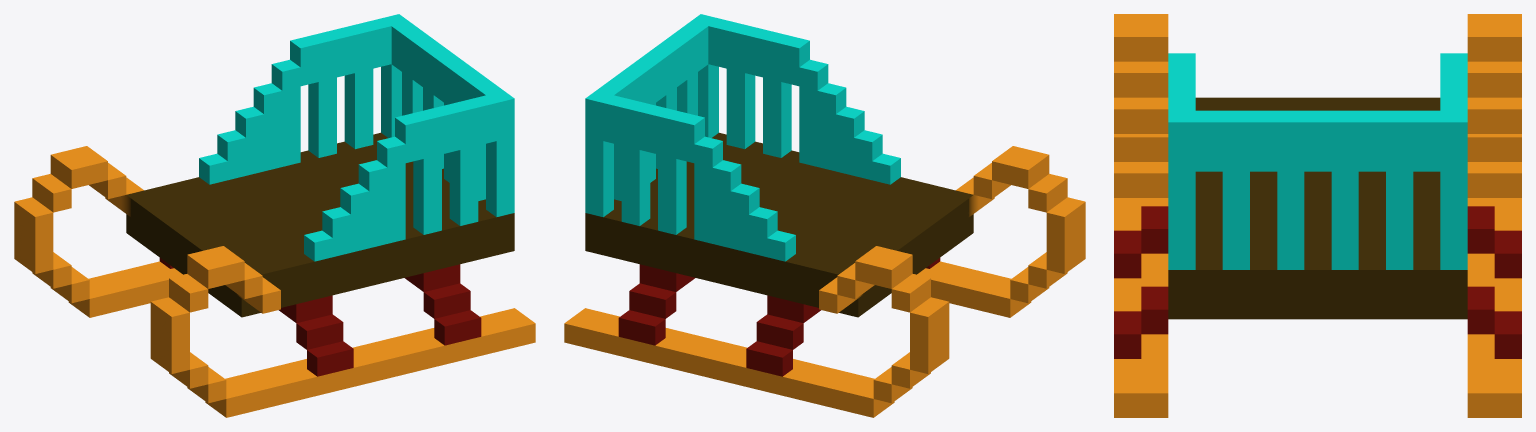
The model's file is Vehicle_13.fbx.
3 renders of one model, left to right at view 1: azimuth 30°, elevation 25°; view 2: azimuth 150°, elevation 25°; view 3: azimuth 270°, elevation 25°, orthographic. The views are drawn at different scales.
Visible parts, largest first — view 1: Vehicle_13; view 2: Vehicle_13; view 3: Vehicle_13.
Boxes of the visible parts, <box> form: Vehicle_13: <box>14,14,535,417</box>; Vehicle_13: <box>564,14,1085,417</box>; Vehicle_13: <box>1114,14,1521,417</box>.
Bounding box in the file's own units: 20 × 12 × 15.
Materials: 1 (1 with a texture image).
